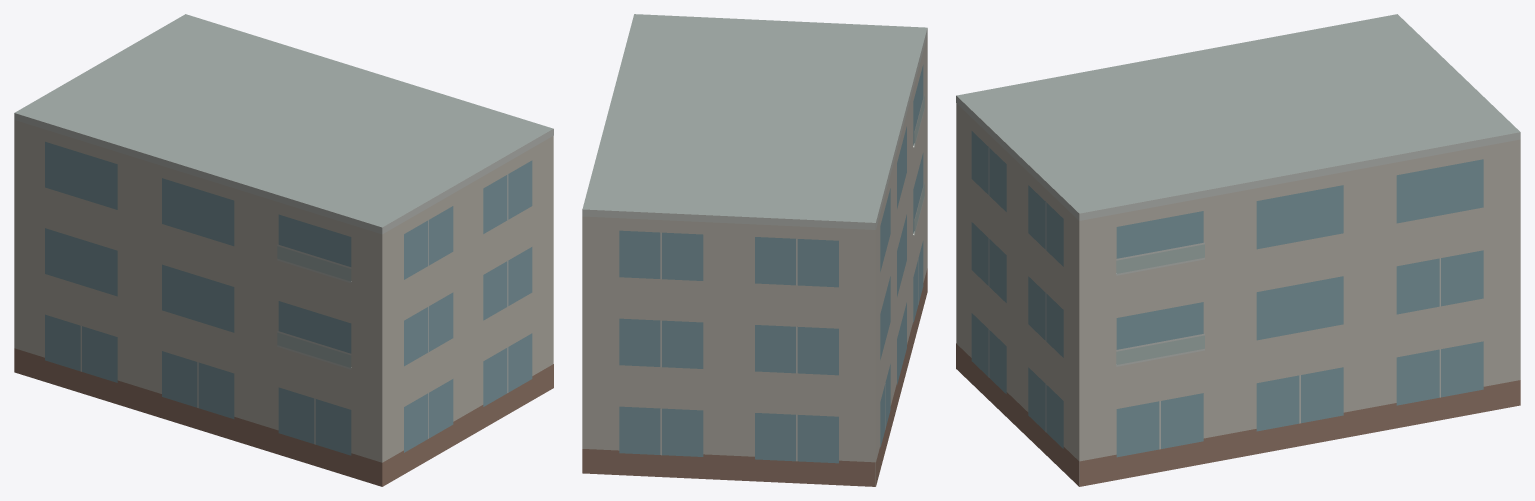
Rendered from survey-upis-32806160.glb.
The picture shows the model from 3 angles, left to right: view 1: azimuth 30°, elevation 25°; view 2: azimuth 150°, elevation 25°; view 3: azimuth 270°, elevation 25°; orthographic projection. The views are drawn at different scales.
Visible parts, largest first — view 1: survey-upis-32806160.tmp; view 2: survey-upis-32806160.tmp; view 3: survey-upis-32806160.tmp.
Part boxes in pixels (bbox=[...]): survey-upis-32806160.tmp: bbox=[14, 14, 553, 486]; survey-upis-32806160.tmp: bbox=[582, 14, 927, 486]; survey-upis-32806160.tmp: bbox=[956, 14, 1520, 486].
Size of the model in its own units: 14.35 by 9.15 by 17.14.
